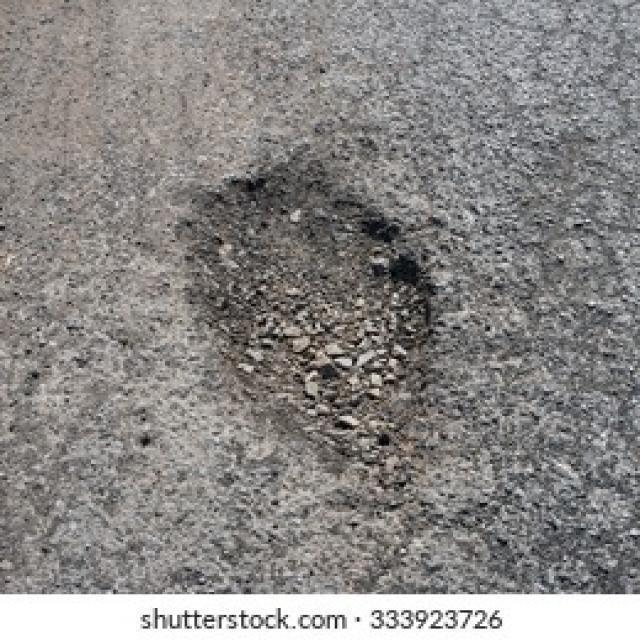Buraco: (168, 138, 453, 500)
